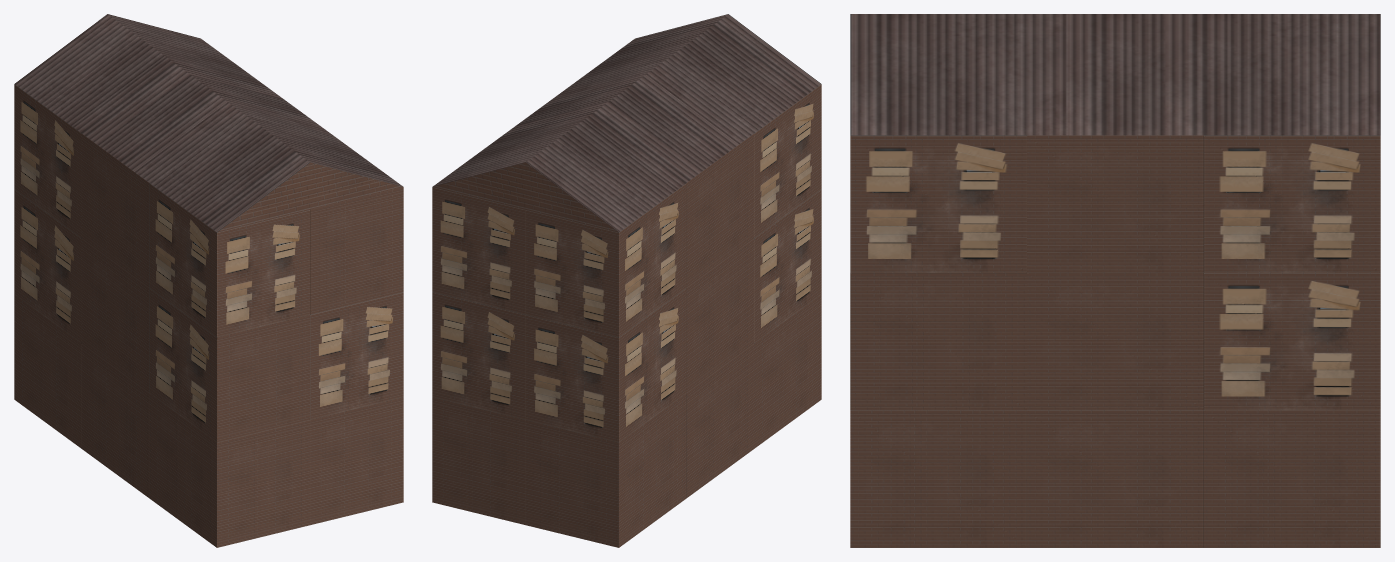
The model's file is Bih_house_01.FBX.
The picture shows the model from 3 angles, left to right: view 1: azimuth 30°, elevation 25°; view 2: azimuth 150°, elevation 25°; view 3: azimuth 270°, elevation 25°; orthographic projection. The views are drawn at different scales.
Visible parts, largest first — view 1: Box005; view 2: Box005; view 3: Box005.
Part boxes in pixels (x1,y1,x2,y2): Box005: [14, 14, 403, 547]; Box005: [432, 14, 821, 547]; Box005: [850, 14, 1380, 547].
Bounding box in the file's own units: 307 × 571 × 578.
